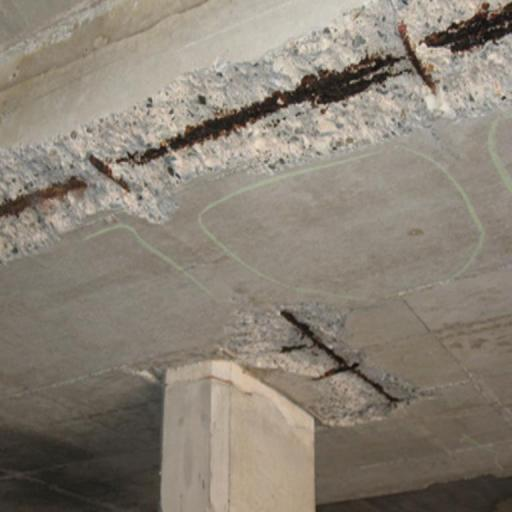spalling: (0, 1, 512, 262), (226, 310, 431, 431)
